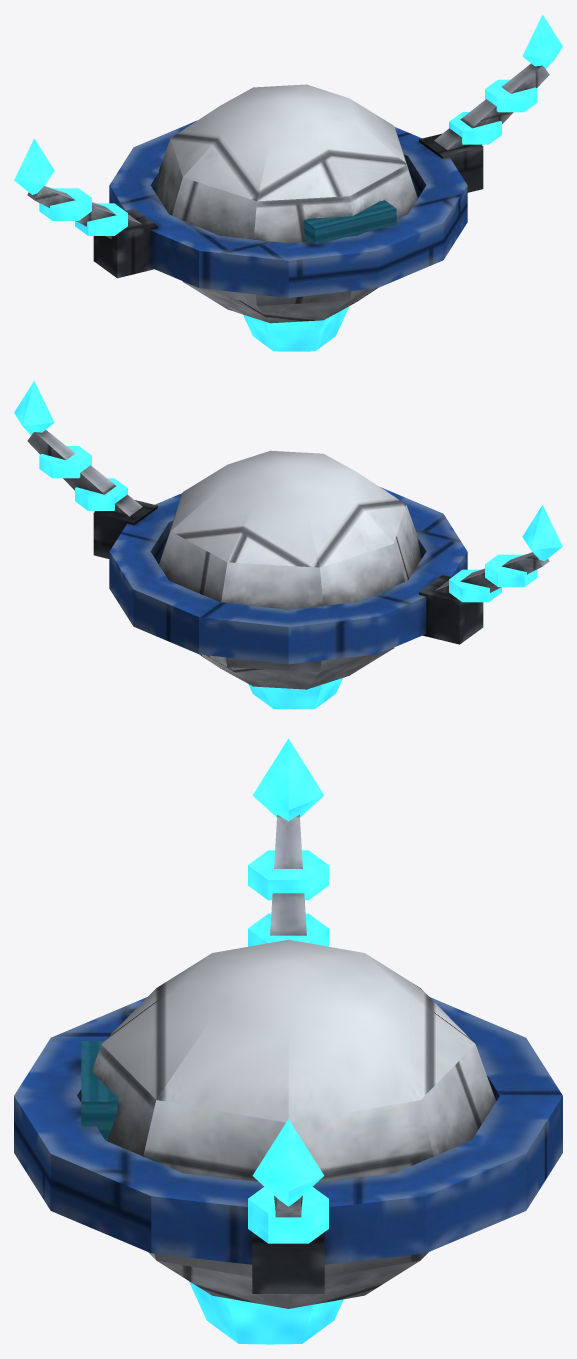
File: u_arcdrone1_w.glb
3 renders of one model, top to bottom at view 1: azimuth 30°, elevation 25°; view 2: azimuth 150°, elevation 25°; view 3: azimuth 270°, elevation 25°, orthographic. The views are drawn at different scales.
Visible parts, largest first — view 1: u_arcdrone1_w; view 2: u_arcdrone1_w; view 3: u_arcdrone1_w.
Boxes of the visible parts, <box> form: u_arcdrone1_w: <box>14,14,562,351</box>; u_arcdrone1_w: <box>14,380,562,709</box>; u_arcdrone1_w: <box>14,738,562,1344</box>.
Bounding box in the file's own units: 1.08 × 0.51 × 0.61.
Materials: 1 (1 with a texture image).
